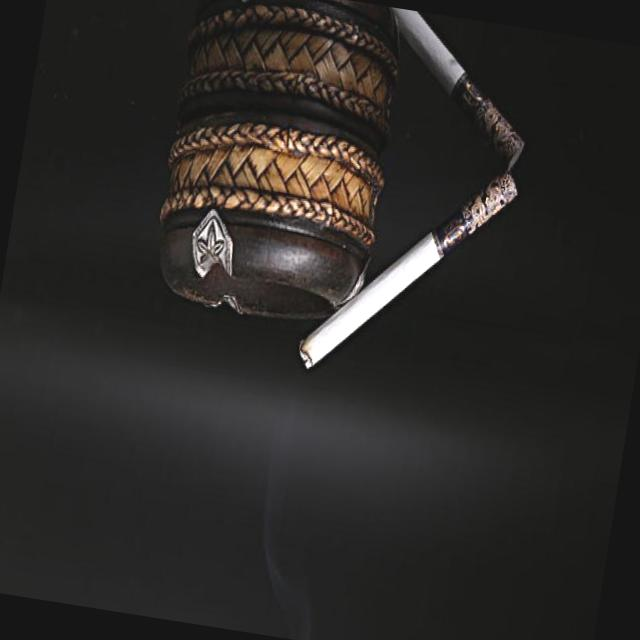cigarette: (290, 140, 526, 408), (332, 2, 558, 170)
